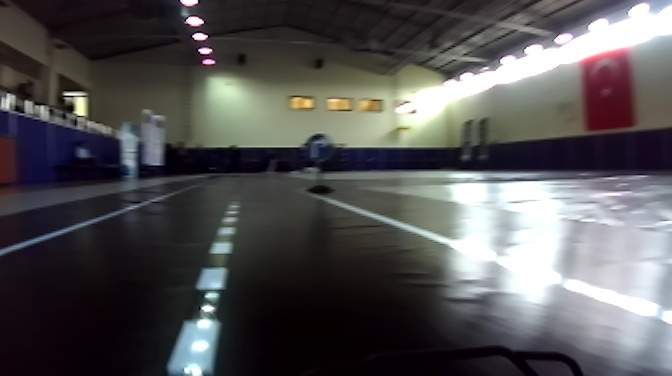saga_donus: (301, 132, 333, 164)
